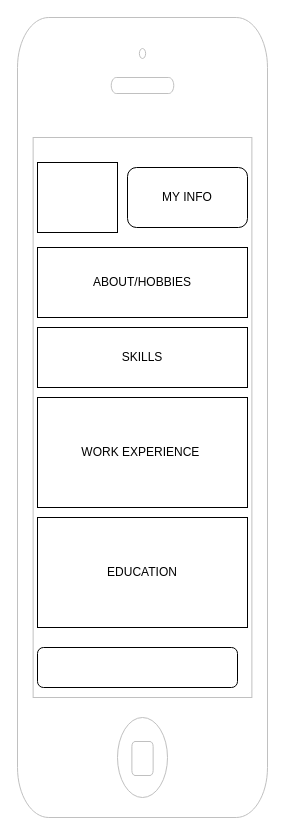
Some shapes in this 285 by 835 pixel diagram are drawn without their labels. The centre of each missing label's shape, as x and y in pixels:
FOOTER: (x=137, y=667)
IMG: (x=77, y=197)
